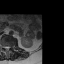CCS_normal: (6, 44, 8, 52)
LFS_stenosis: (10, 44, 12, 49)
LLS_normal: (8, 44, 10, 51)
RFS_stenosis: (2, 43, 4, 50)
RLS_normal: (4, 44, 6, 50)
